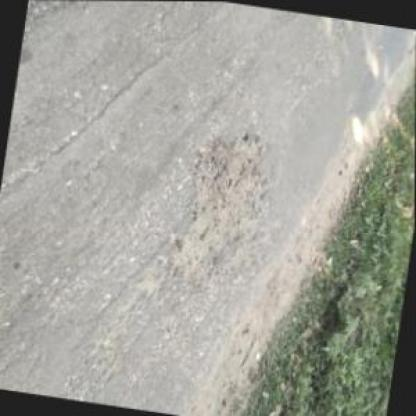pothole: (169, 122, 282, 288)
